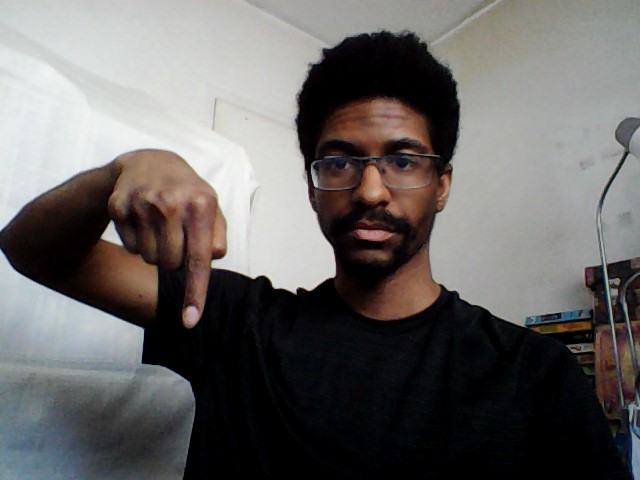q: (103, 143, 233, 335)
